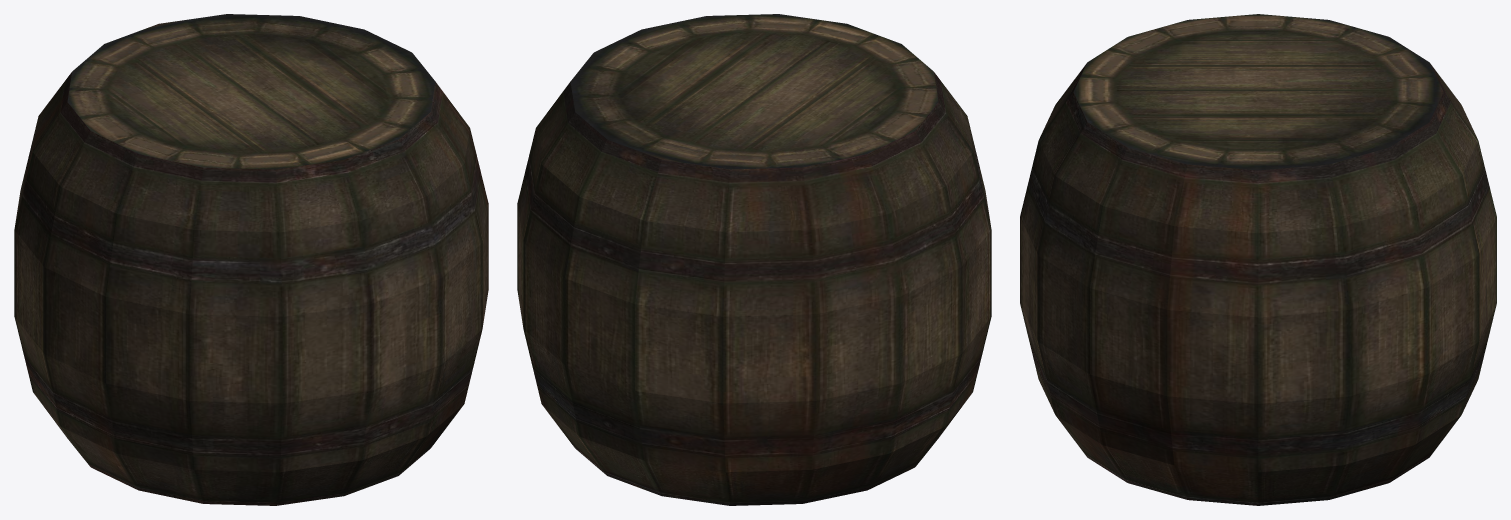
The model's file is barrilv2.fbx.
3 views of the same model, side by side, from view 1: azimuth 30°, elevation 25°; view 2: azimuth 150°, elevation 25°; view 3: azimuth 270°, elevation 25° (orthographic).
Visible parts, largest first — view 1: Cylinder; view 2: Cylinder; view 3: Cylinder.
Part boxes in pixels (x1=…): Cylinder: x1=14, y1=14, x2=488, y2=505; Cylinder: x1=517, y1=14, x2=991, y2=505; Cylinder: x1=1020, y1=14, x2=1496, y2=505.
Size of the model in its own units: 288 by 223 by 288.
Materials: 1 (1 with a texture image).
